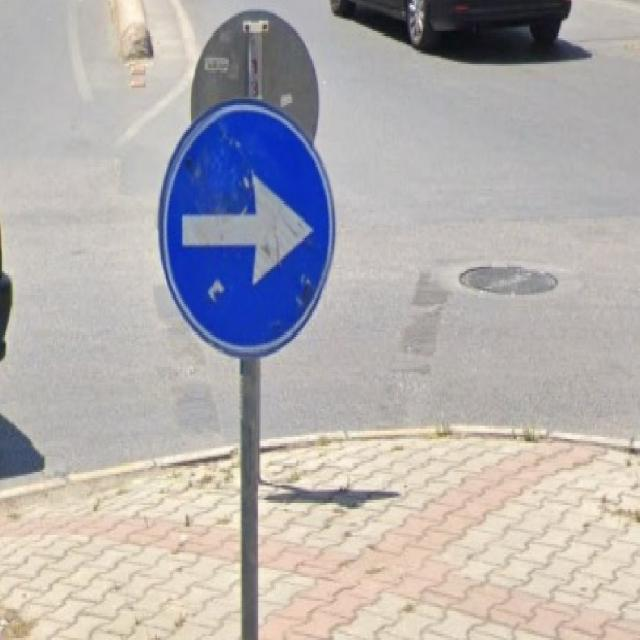Turn Right: (155, 96, 334, 363)
